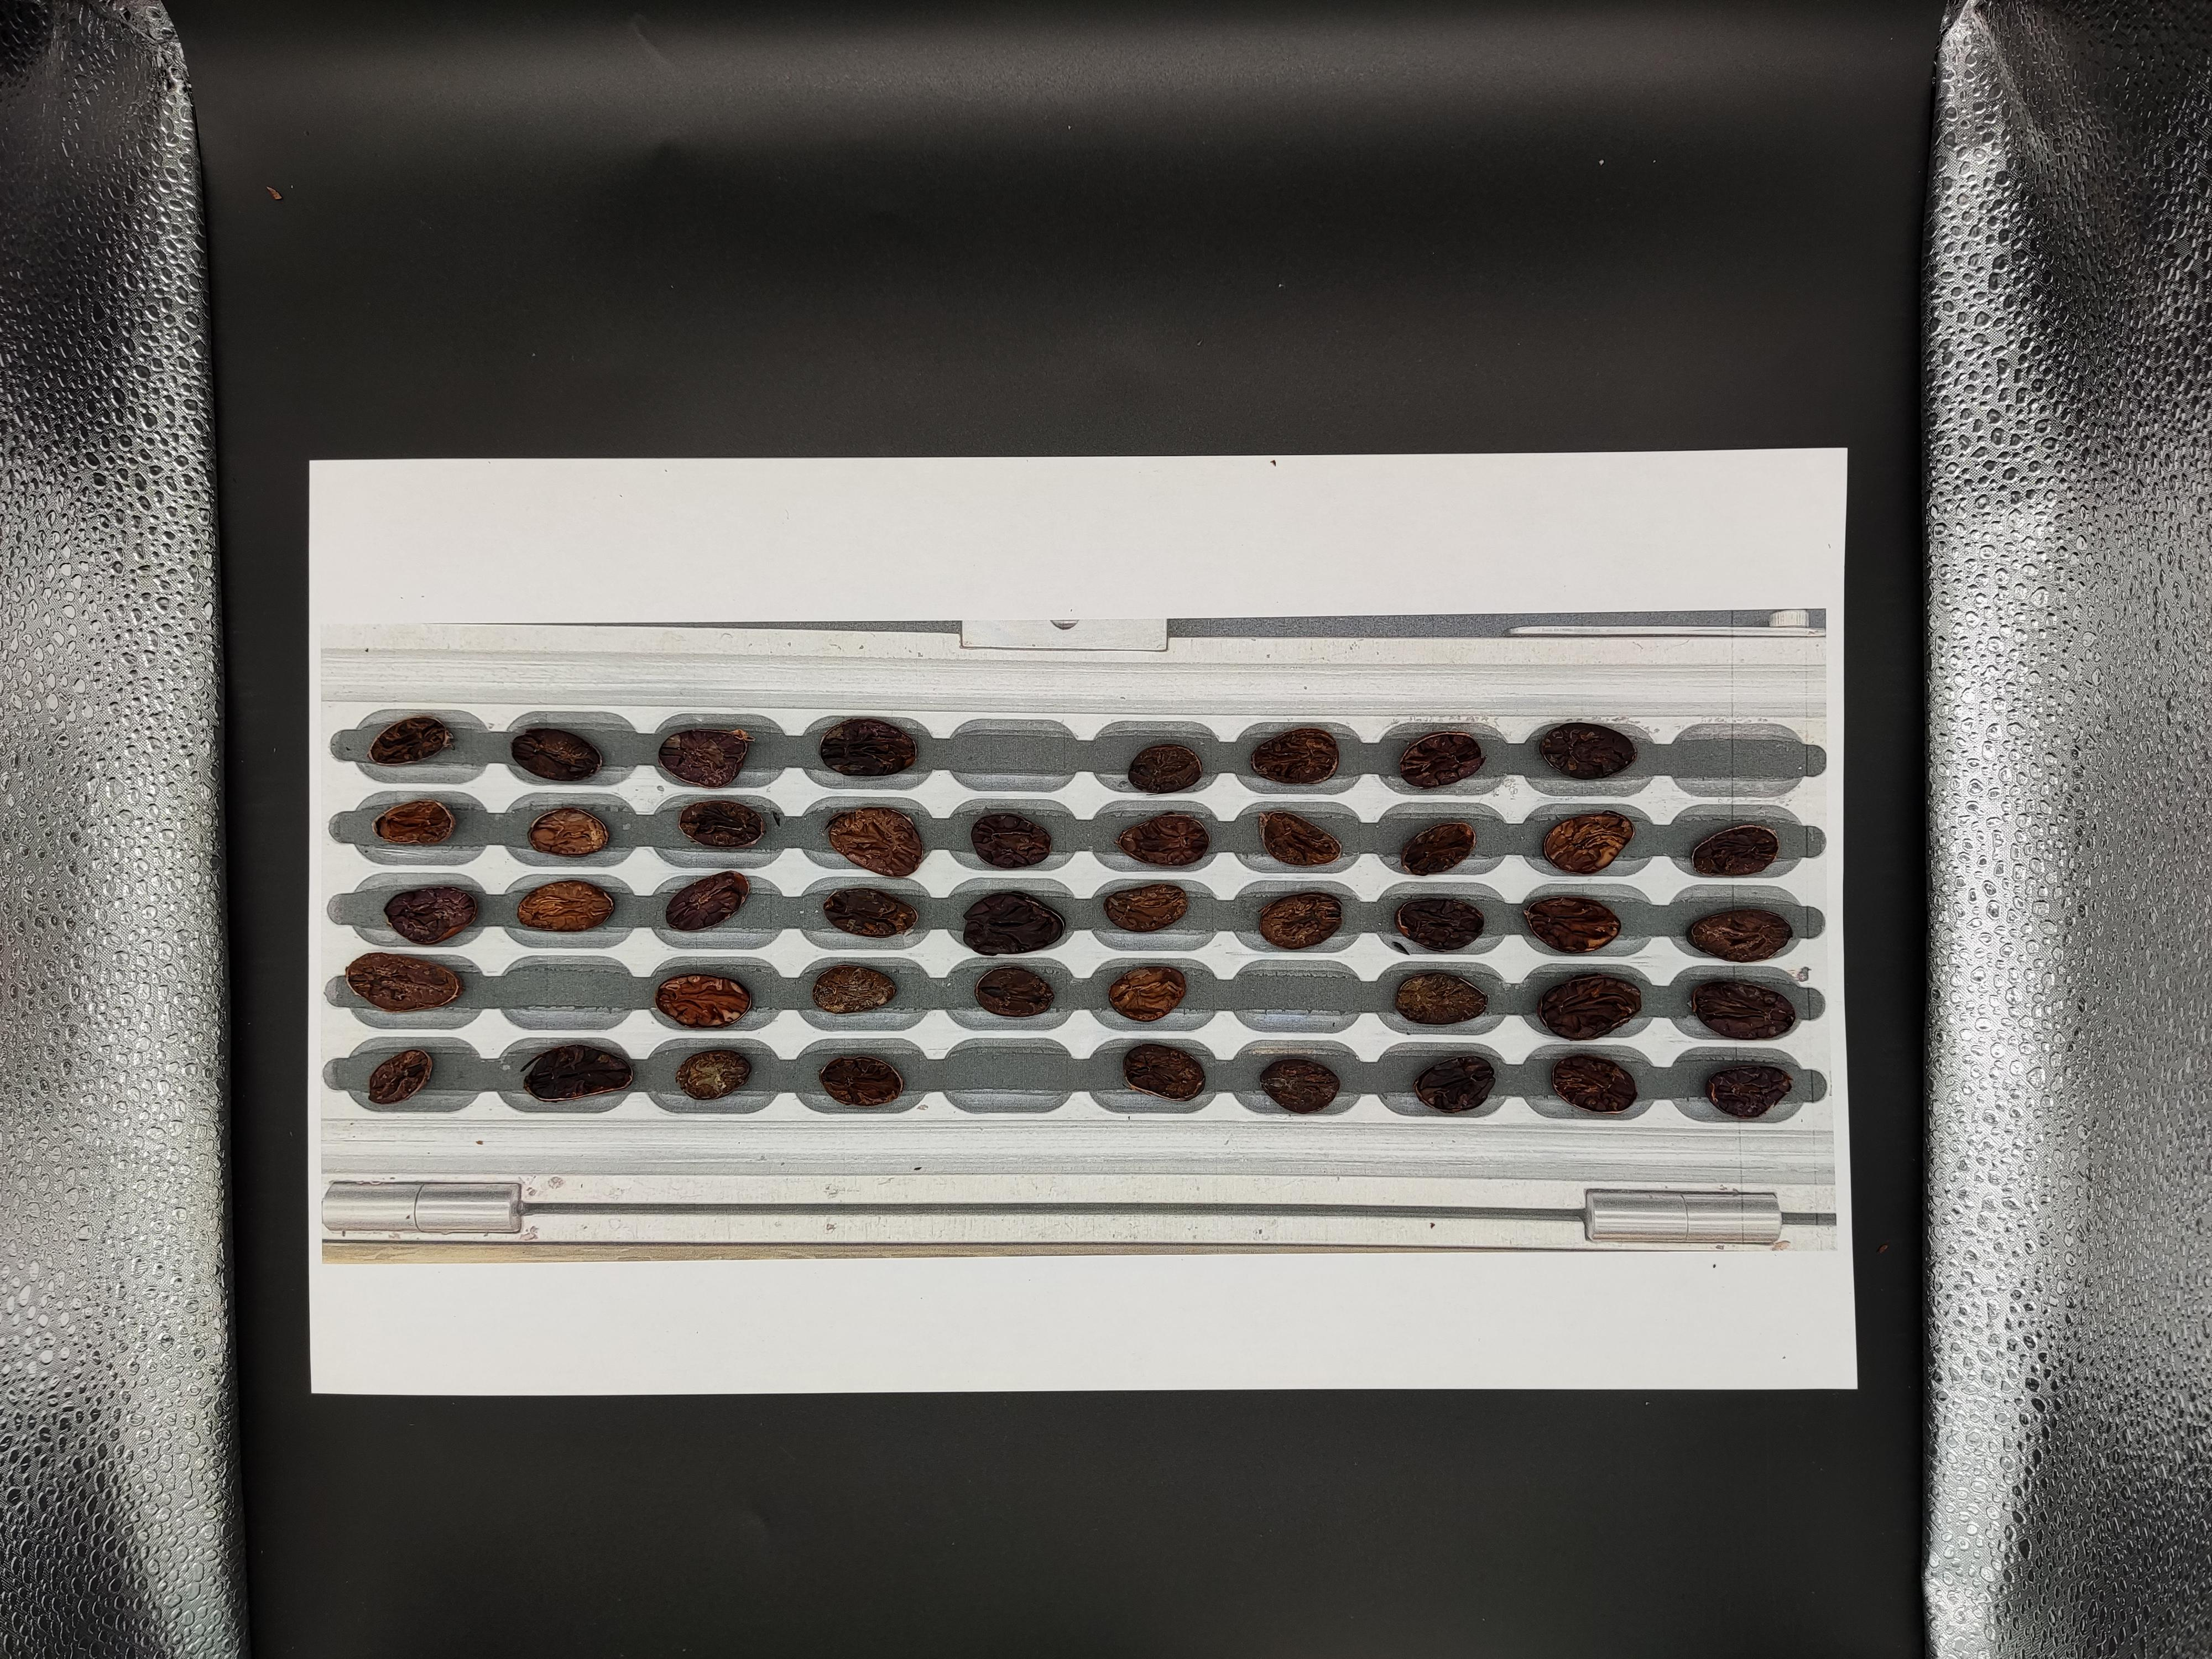Brown - G1: (1864, 497, 1926, 537), (1857, 455, 1912, 493), (1413, 497, 1470, 530), (1268, 406, 1317, 437)
Brown - G2: (1865, 415, 1923, 453), (1501, 411, 1555, 451), (1871, 537, 1925, 575), (1649, 415, 1702, 448), (1717, 371, 1768, 404), (1496, 537, 1547, 570), (1646, 490, 1691, 526), (1794, 420, 1841, 453), (1723, 413, 1770, 446)
Brown - G3: (1256, 484, 1320, 523), (1939, 462, 2003, 497), (1343, 448, 1399, 481), (1649, 532, 1702, 566), (1723, 453, 1771, 490), (1263, 532, 1306, 570), (1576, 491, 1625, 525), (1348, 410, 1395, 441), (1644, 450, 1691, 479)
Insect-damaged: (1792, 497, 1846, 528)
Mouldy: (1721, 537, 1770, 573), (1493, 493, 1543, 525), (1425, 535, 1468, 570), (1655, 378, 1698, 411)
Partly Purple - G1: (1569, 453, 1630, 495), (1792, 373, 1844, 408)
Partly Purple - G2: (1942, 498, 2003, 535), (1346, 532, 1407, 568), (1496, 366, 1554, 403), (1792, 457, 1844, 491), (1576, 413, 1622, 448), (1425, 408, 1475, 437)
Partly Purple - G3: (1418, 443, 1468, 483)
Total Purple - G2: (1947, 542, 2001, 577)
Total Purple - G3: (1275, 451, 1329, 488), (1414, 369, 1467, 406)
Very Dark Brown - G1: (1264, 362, 1315, 397)
Very Dark Brown - G2: (1942, 418, 1994, 453), (1803, 537, 1848, 573)
Very Dark Brown - G3: (1865, 366, 1923, 403), (1500, 451, 1554, 484), (1339, 369, 1392, 403)
